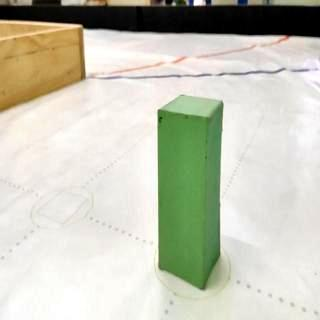greenbox: (156, 92, 226, 294)
